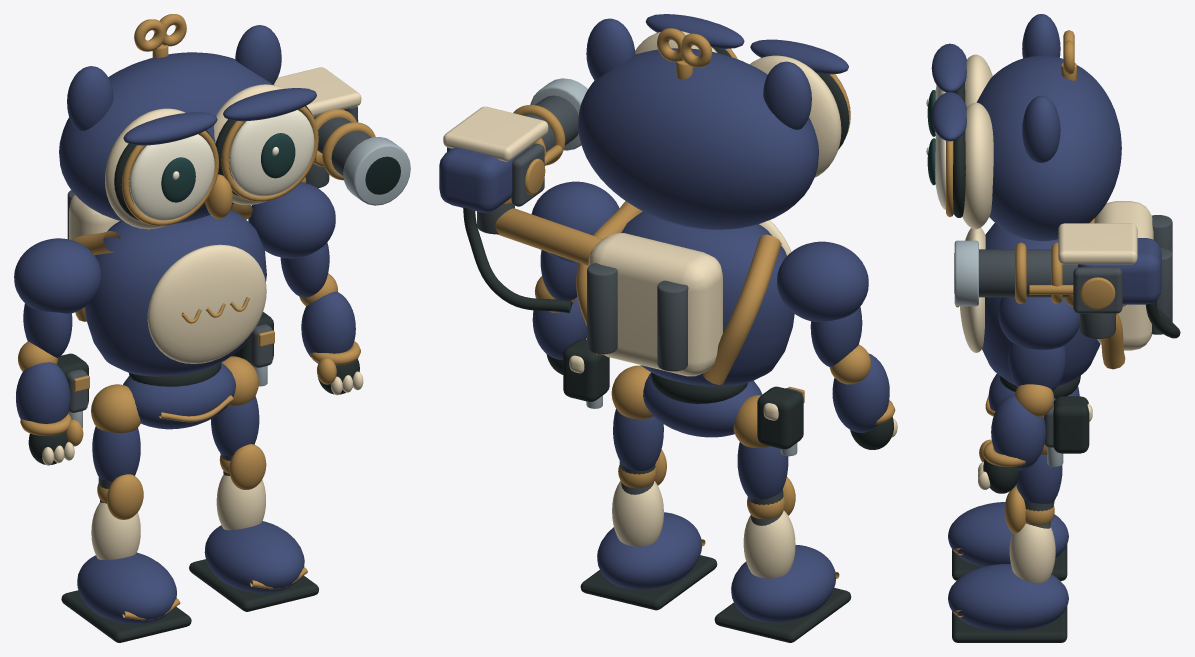
Rendered from owl-ranger.t3.glb.
The picture shows the model from 3 angles, left to right: view 1: azimuth 30°, elevation 25°; view 2: azimuth 150°, elevation 25°; view 3: azimuth 270°, elevation 25°; orthographic projection. The views are drawn at different scales.
Visible parts, largest first — view 1: ranger chest shell, owl rounded head, owl feather breastplate, head__mk7_white, designer toy boot L, designer toy boot R, rounded shoulder armour L, head__mk7_brass, rounded shoulder armour R, pelvis armour bridge, cast forearm L, cast forearm R (+35 smaller); view 2: owl rounded head, backpack power shell, ranger chest shell, backpack__mk7_brass, rounded shoulder armour L, backpack__mk7_steel, designer toy boot L, designer toy boot R, cannon cast receiver, cannon armoured eyebrow, pelvis armour bridge, rounded shoulder armour R (+32 smaller); view 3: owl rounded head, designer toy boot R, ranger chest shell, designer toy boot L, rounded shoulder armour R, cannon armoured eyebrow, owl ivory facial disc 1, short pressure barrel, cast forearm R, backpack power shell, cannon cast receiver, curved shin guard R (+28 smaller).
Part boxes in pixels (x1=…): ranger chest shell: x1=84, y1=210, x2=266, y2=376; owl rounded head: x1=59, y1=52, x2=274, y2=223; owl feather breastplate: x1=147, y1=244, x2=266, y2=363; head__mk7_white: x1=129, y1=110, x2=314, y2=220; designer toy boot L: x1=77, y1=552, x2=176, y2=624; designer toy boot R: x1=204, y1=521, x2=304, y2=593; rounded shoulder armour L: x1=14, y1=238, x2=101, y2=313; head__mk7_brass: x1=121, y1=14, x2=318, y2=225; rounded shoulder armour R: x1=248, y1=182, x2=335, y2=258; pelvis armour bridge: x1=123, y1=363, x2=235, y2=429; cast forearm L: x1=16, y1=362, x2=70, y2=423; cast forearm R: x1=301, y1=291, x2=355, y2=363; owl rounded head: x1=578, y1=48, x2=818, y2=229; backpack power shell: x1=588, y1=233, x2=722, y2=376; ranger chest shell: x1=621, y1=211, x2=794, y2=386; backpack__mk7_brass: x1=495, y1=201, x2=781, y2=384; rounded shoulder armour L: x1=777, y1=241, x2=868, y2=321; backpack__mk7_steel: x1=587, y1=263, x2=688, y2=371; designer toy boot L: x1=731, y1=545, x2=835, y2=622; designer toy boot R: x1=597, y1=512, x2=701, y2=589; cannon cast receiver: x1=439, y1=147, x2=528, y2=212; cannon armoured eyebrow: x1=443, y1=106, x2=548, y2=161; pelvis armour bridge: x1=643, y1=373, x2=762, y2=437; rounded shoulder armour R: x1=531, y1=181, x2=619, y2=262; owl rounded head: x1=976, y1=55, x2=1121, y2=241; designer toy boot R: x1=948, y1=564, x2=1068, y2=630; ranger chest shell: x1=982, y1=223, x2=1100, y2=387; designer toy boot L: x1=948, y1=502, x2=1068, y2=566; rounded shoulder armour R: x1=998, y1=297, x2=1079, y2=349; cannon armoured eyebrow: x1=1058, y1=223, x2=1137, y2=264; owl ivory facial disc 1: x1=962, y1=102, x2=993, y2=229; short pressure barrel: x1=979, y1=249, x2=1077, y2=297; cast forearm R: x1=991, y1=394, x2=1045, y2=470; backpack power shell: x1=1094, y1=201, x2=1153, y2=350; cannon cast receiver: x1=1078, y1=238, x2=1161, y2=304; curved shin guard R: x1=1009, y1=523, x2=1055, y2=583.
Size of the model in its own units: 1.77 by 2.57 by 1.06.
